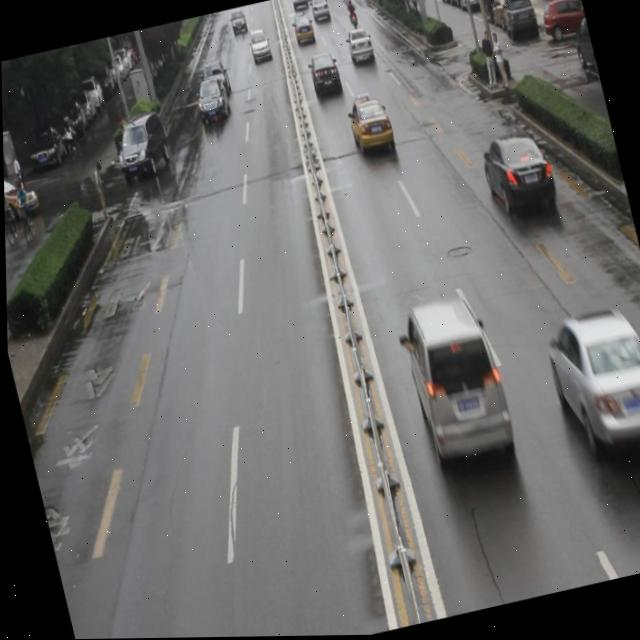car: (536, 302, 640, 467), (475, 127, 554, 223), (342, 92, 395, 161), (304, 53, 344, 103)
truck: (389, 290, 514, 477), (110, 112, 172, 181)
